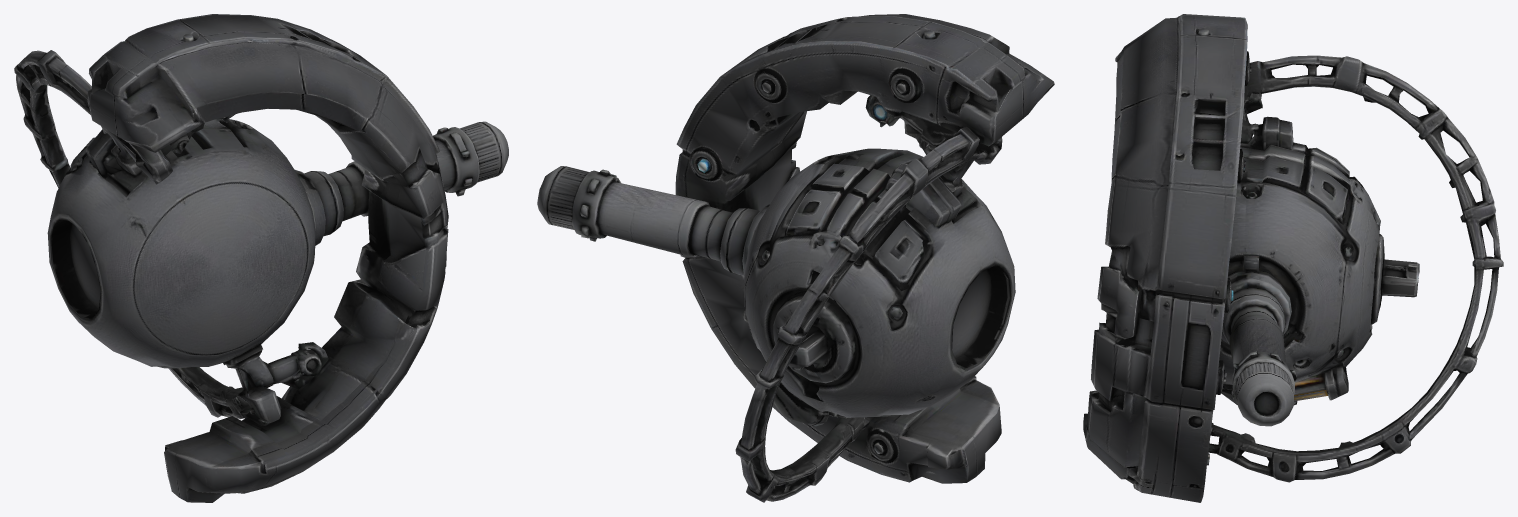
Rendered from vector-gyro.glb.
The picture shows the model from 3 angles, left to right: view 1: azimuth 30°, elevation 25°; view 2: azimuth 150°, elevation 25°; view 3: azimuth 270°, elevation 25°; orthographic projection. The views are drawn at different scales.
Parts seen in each view (by area): view 1: tripo_node_ce1217eb-8997-47e5-a84a-6d0180fa1fa4; view 2: tripo_node_ce1217eb-8997-47e5-a84a-6d0180fa1fa4; view 3: tripo_node_ce1217eb-8997-47e5-a84a-6d0180fa1fa4.
Boxes of the visible parts, x1,y1,x2,y2 form: tripo_node_ce1217eb-8997-47e5-a84a-6d0180fa1fa4: [14, 14, 508, 502]; tripo_node_ce1217eb-8997-47e5-a84a-6d0180fa1fa4: [537, 14, 1054, 502]; tripo_node_ce1217eb-8997-47e5-a84a-6d0180fa1fa4: [1083, 14, 1503, 502].
Bounding box in the file's own units: 0.998 × 0.998 × 0.8691.
Materials: 1 (1 with a texture image).
